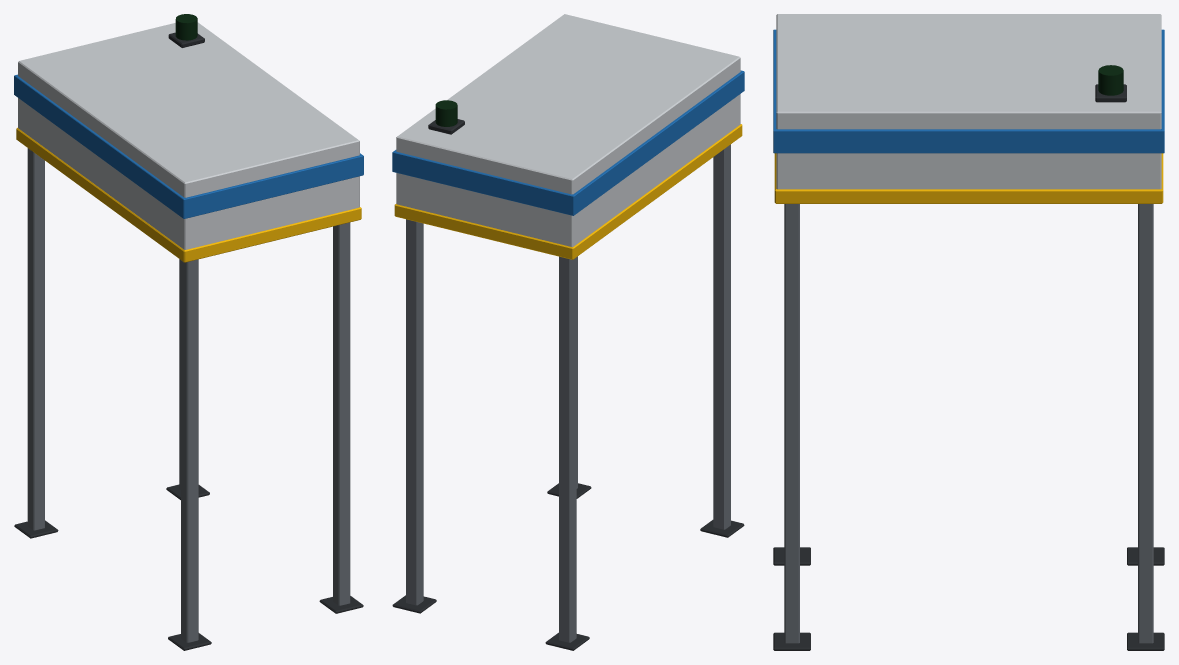
Rendered from emitter_raw_blue.glb.
3 renders of one model, left to right at view 1: azimuth 30°, elevation 25°; view 2: azimuth 150°, elevation 25°; view 3: azimuth 270°, elevation 25°, orthographic. The views are drawn at different scales.
Parts seen in each view (by area): view 1: Emitter_Static, Band, EmitterLamp; view 2: Emitter_Static, Band, EmitterLamp; view 3: Emitter_Static, Band, EmitterLamp.
Part boxes in pixels (x1,y1,x2,y2): Emitter_Static: (14,22,363,650); Band: (14,74,363,218); EmitterLamp: (175,14,197,40); Emitter_Static: (392,14,744,650); Band: (392,70,744,215); EmitterLamp: (435,100,457,126); Emitter_Static: (773,14,1164,650); Band: (773,29,1164,153); EmitterLamp: (1098,65,1123,95).
Bounding box in the file's own units: 0.76 × 1.97 × 1.24.
